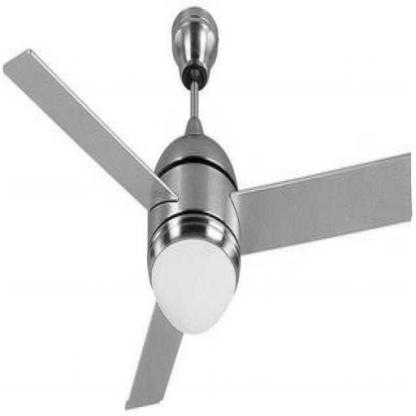ceiling-fan: (2, 5, 412, 401)
